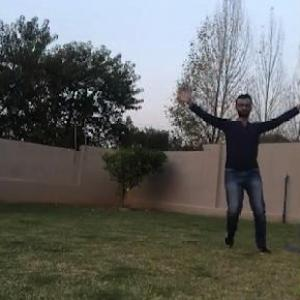takeoff: (166, 90, 292, 245)
